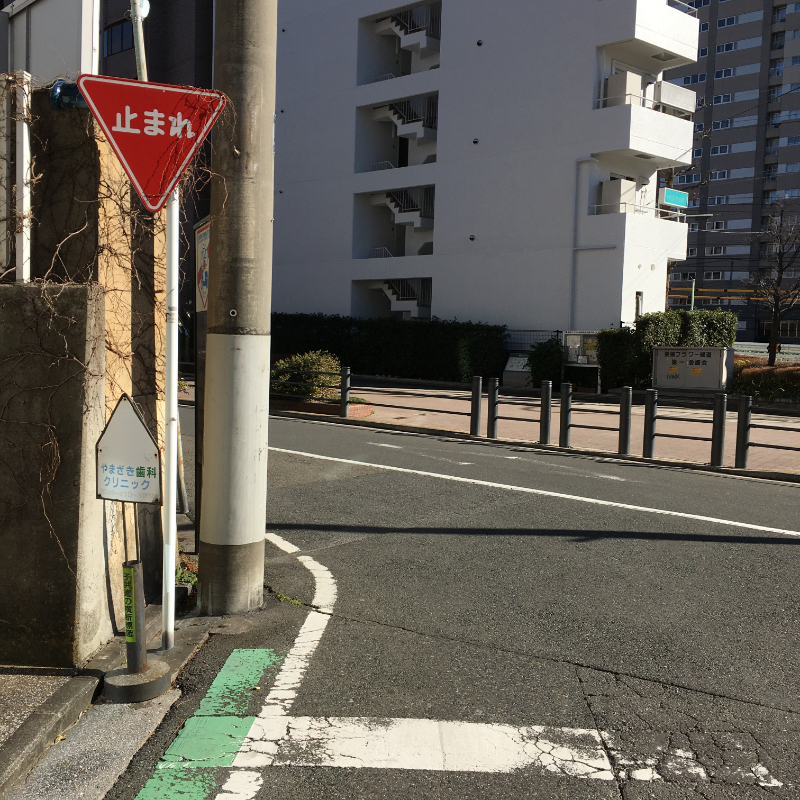STOP: (74, 70, 231, 216)
